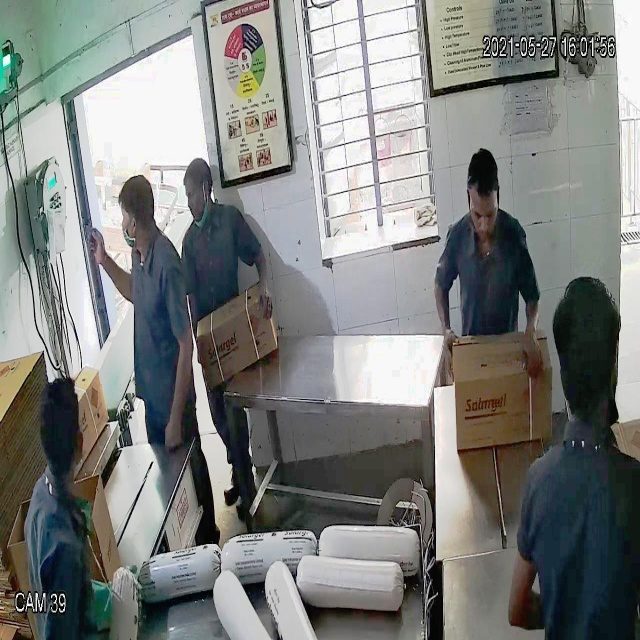Sin_gafas: (466, 194, 502, 228)
